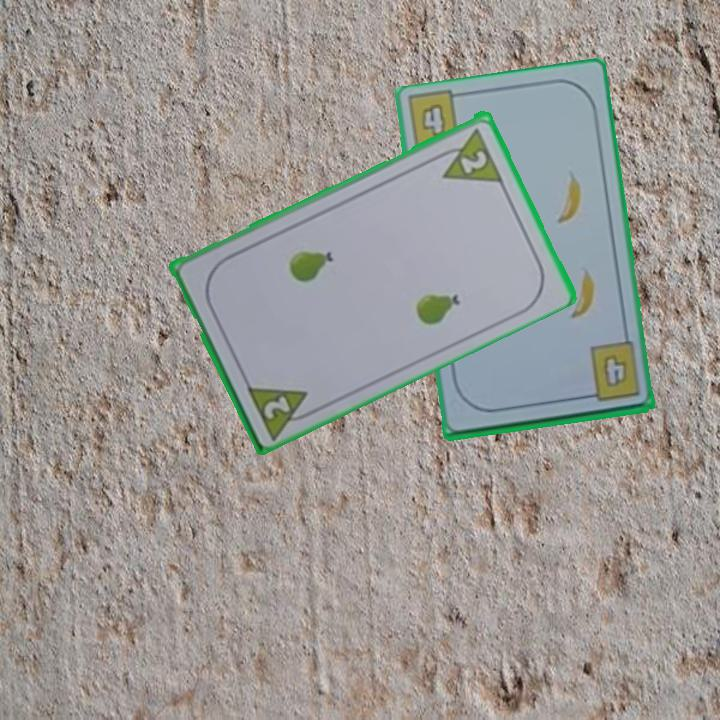2p: (242, 379, 319, 441), (430, 123, 506, 185)
4b: (578, 339, 643, 405), (417, 99, 449, 139)
